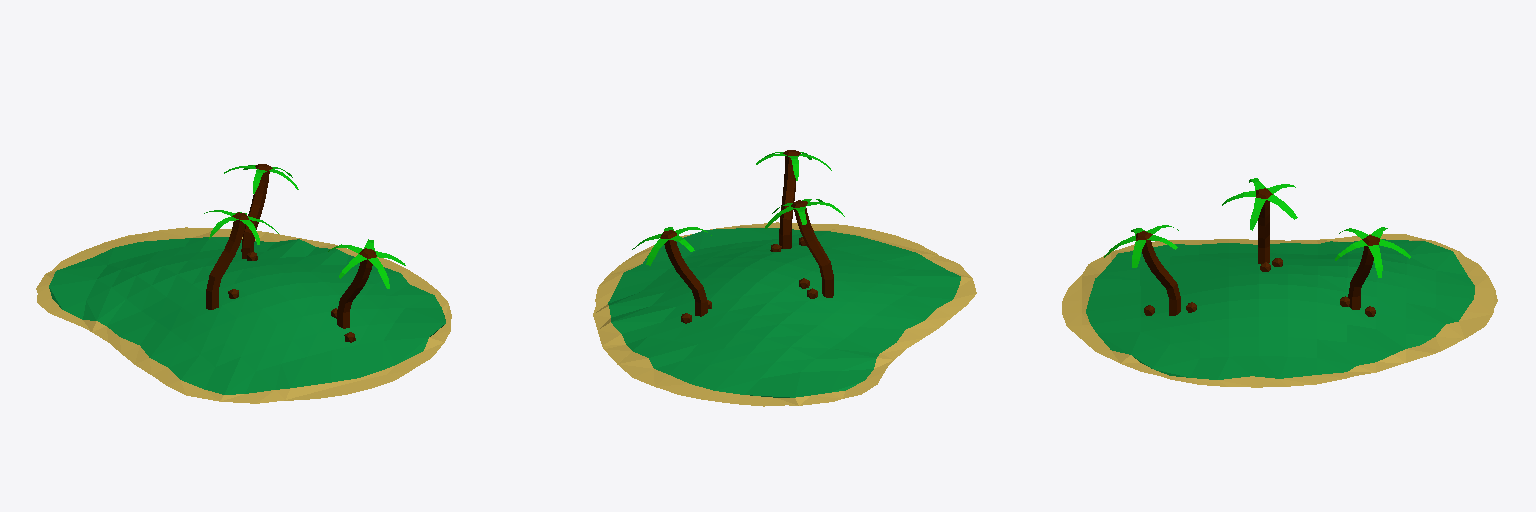
File: island.obj
3 renders of one model, left to right at view 1: azimuth 30°, elevation 25°; view 2: azimuth 150°, elevation 25°; view 3: azimuth 270°, elevation 25°, orthographic.
Visible parts, largest first — view 1: Plane, Cylinder.001, Cylinder, Cylinder.002; view 2: Plane, Cylinder.002, Cylinder, Cylinder.001; view 3: Plane, Cylinder.001, Cylinder.002, Cylinder.
Boxes of the visible parts, x1=… form: Plane: x1=36, y1=227, x2=451, y2=403; Cylinder.001: x1=328, y1=239, x2=405, y2=328; Cylinder: x1=204, y1=210, x2=278, y2=309; Cylinder.002: x1=224, y1=164, x2=298, y2=258; Plane: x1=593, y1=222, x2=976, y2=406; Cylinder.002: x1=632, y1=227, x2=711, y2=316; Cylinder: x1=765, y1=199, x2=844, y2=297; Cylinder.001: x1=756, y1=150, x2=831, y2=248; Plane: x1=1062, y1=234, x2=1497, y2=387; Cylinder.001: x1=1104, y1=225, x2=1180, y2=315; Cylinder.002: x1=1335, y1=227, x2=1410, y2=309; Cylinder: x1=1222, y1=178, x2=1297, y2=263.
Bounding box in the file's own units: 2.79 × 0.9208 × 3.33.